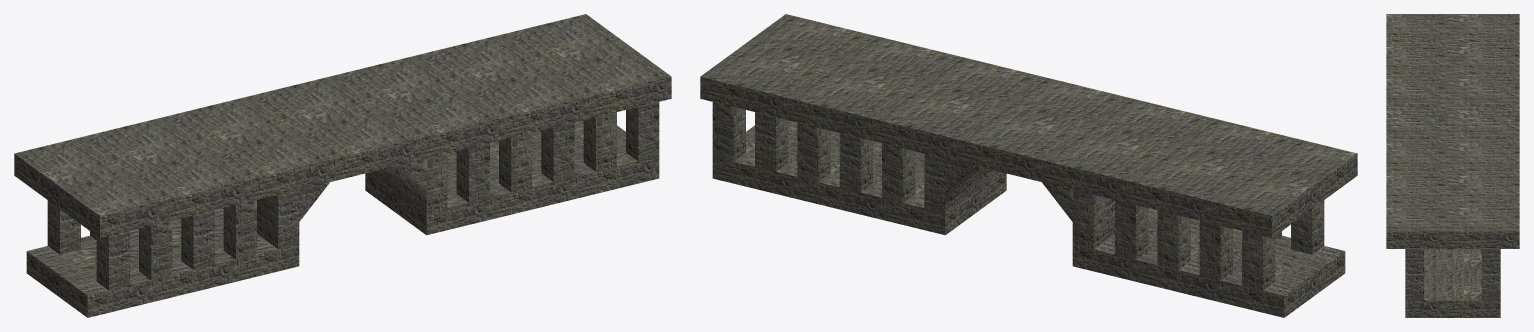
Rendered from SM_Bridge_01.FBX.
3 renders of one model, left to right at view 1: azimuth 30°, elevation 25°; view 2: azimuth 150°, elevation 25°; view 3: azimuth 270°, elevation 25°, orthographic. The views are drawn at different scales.
Visible parts, largest first — view 1: SM_Bridge_01; view 2: SM_Bridge_01; view 3: SM_Bridge_01.
Boxes of the visible parts, x1,y1,x2,y2 form: SM_Bridge_01: (14, 14, 671, 317); SM_Bridge_01: (700, 14, 1357, 317); SM_Bridge_01: (1386, 14, 1519, 317).
Size of what is drawn, in the model's own units: 1728 by 448 by 320.
